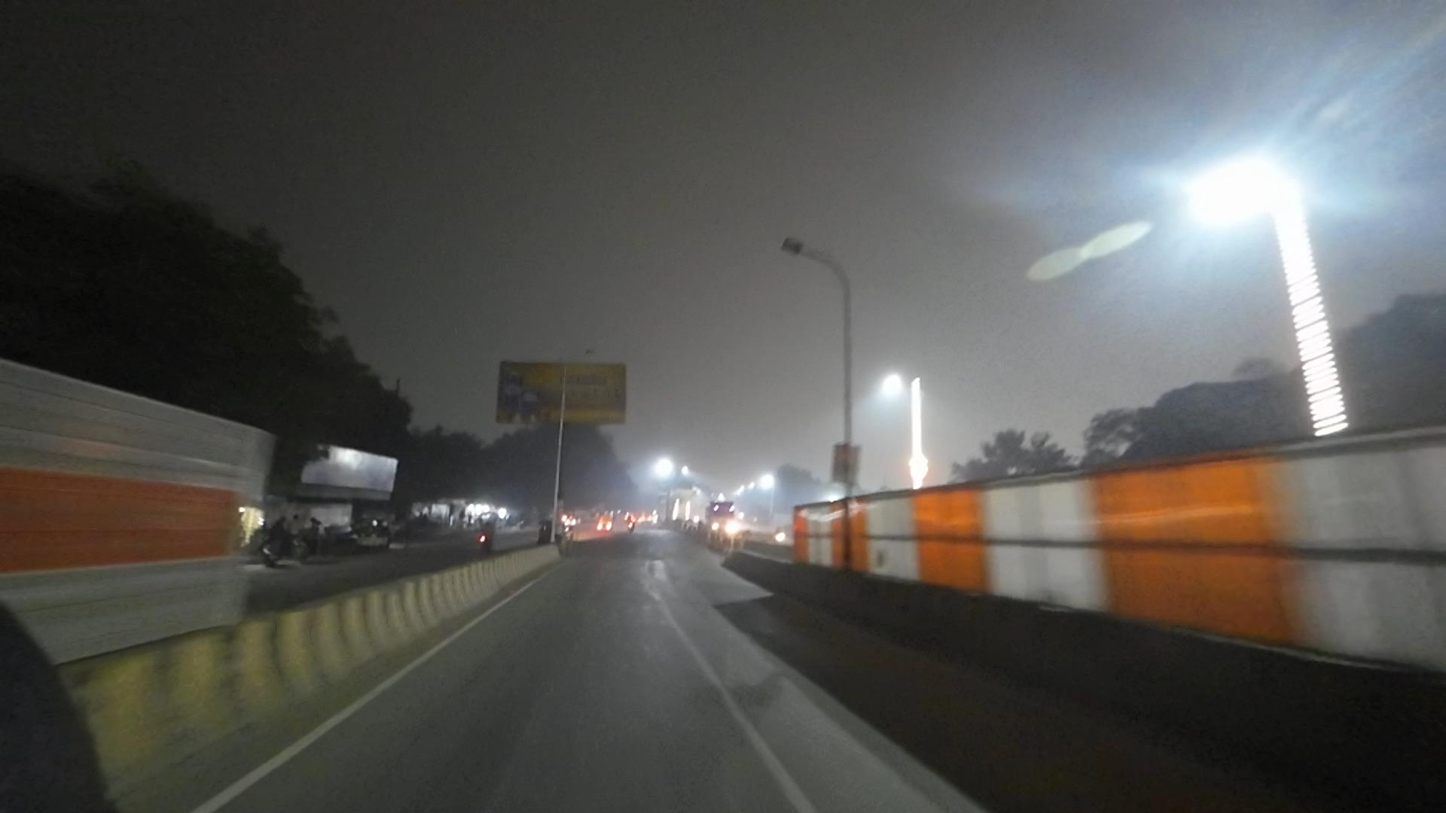streetlight: (775, 231, 830, 264)
